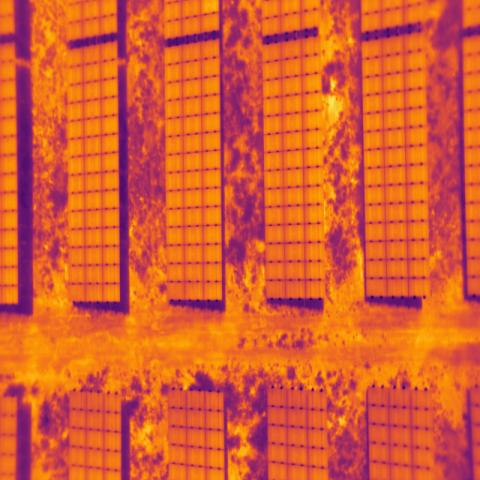fault: (201, 0, 220, 15)
